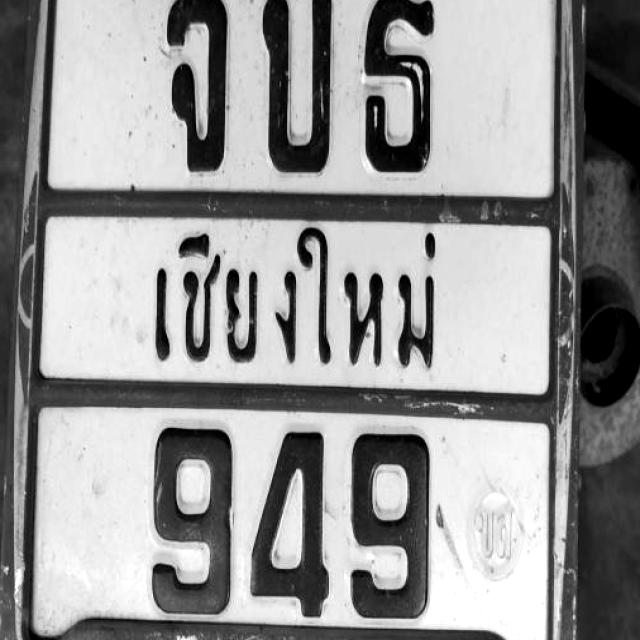letters: (133, 416, 234, 619), (147, 0, 245, 197), (254, 0, 352, 197), (242, 418, 328, 622), (355, 431, 436, 622), (361, 0, 442, 175)
license-plate: (16, 0, 577, 640)
province: (126, 214, 486, 385)
